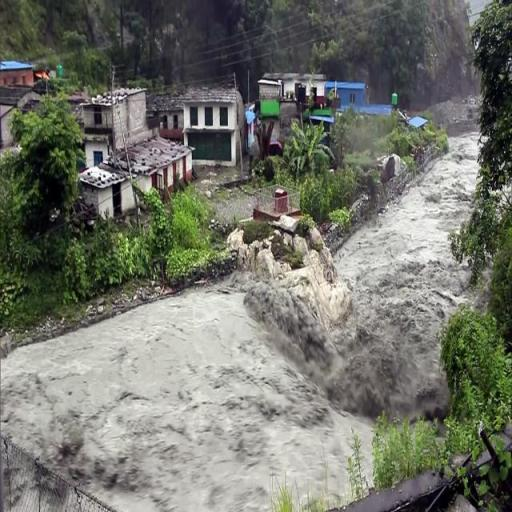flood: (2, 135, 478, 512)
house: (86, 86, 194, 193), (150, 80, 250, 173), (77, 163, 132, 223), (264, 72, 325, 111), (0, 62, 37, 106), (326, 75, 369, 112)
